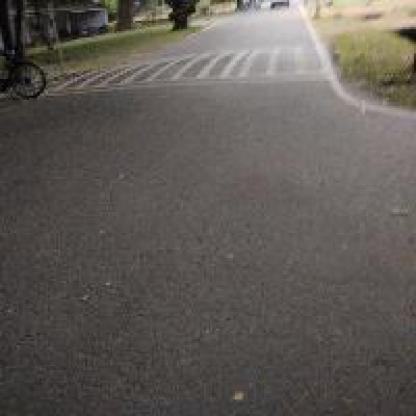Speed Bump: (46, 45, 324, 93)
